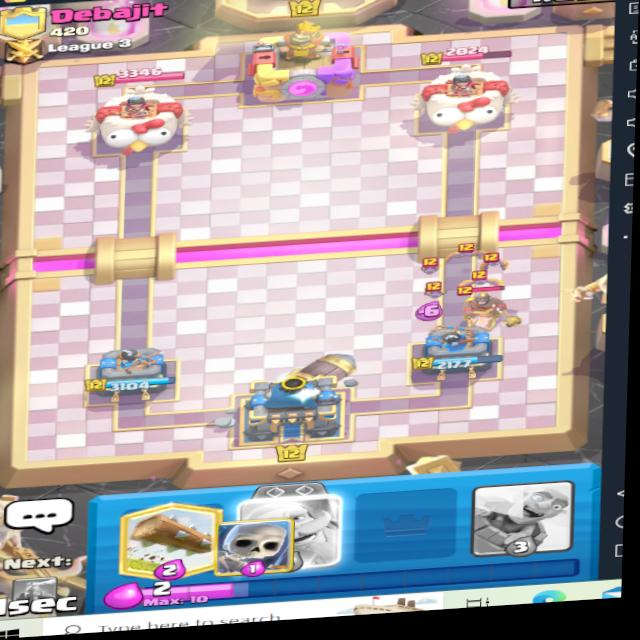Bat: (439, 230, 479, 269), (403, 256, 445, 280), (460, 269, 503, 290), (480, 242, 510, 272), (412, 278, 449, 302)
Hog: (457, 283, 528, 338)
